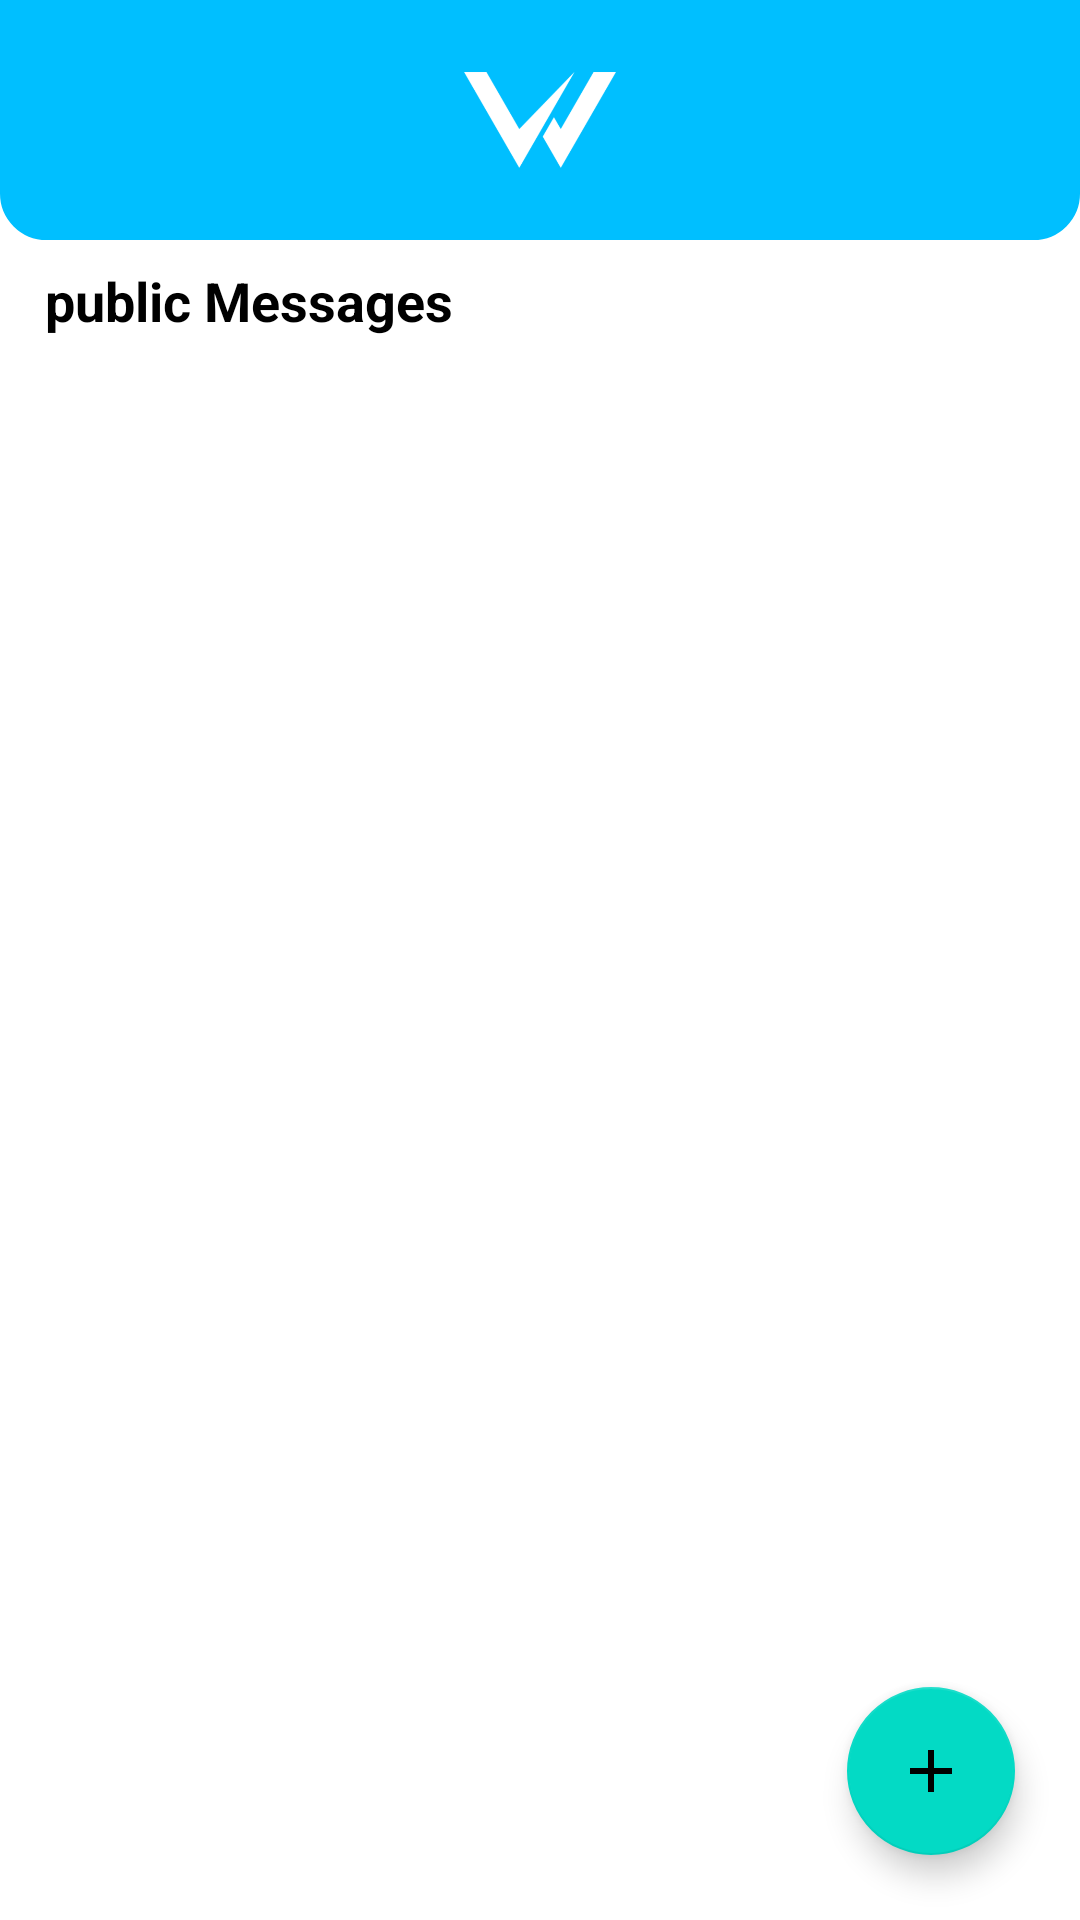

Icon bounding boxes for this 1080x1920 phone screenshot, format (x1, y1, x2, y2):
add: (847, 1687, 1015, 1855)
